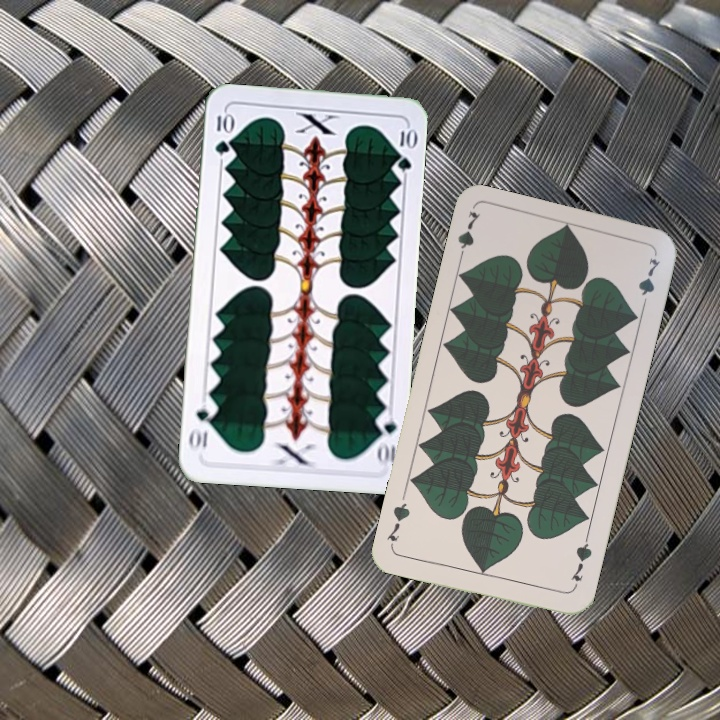G10: (372, 409, 399, 468), (211, 108, 233, 157)
G7: (453, 207, 483, 266), (567, 533, 595, 592)
